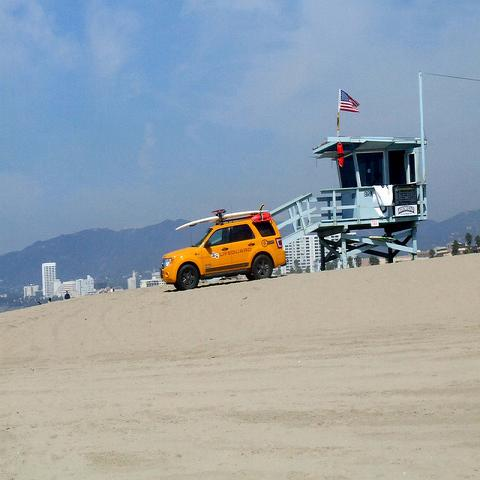car: (160, 216, 288, 287)
